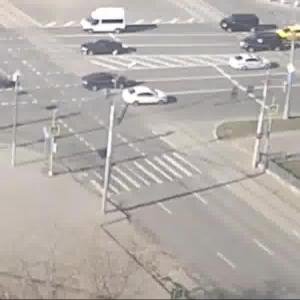car: (79, 7, 143, 38), (239, 34, 293, 54), (119, 86, 178, 104), (219, 18, 267, 40), (226, 53, 269, 71), (82, 36, 130, 52), (88, 71, 123, 90), (277, 27, 300, 40)
